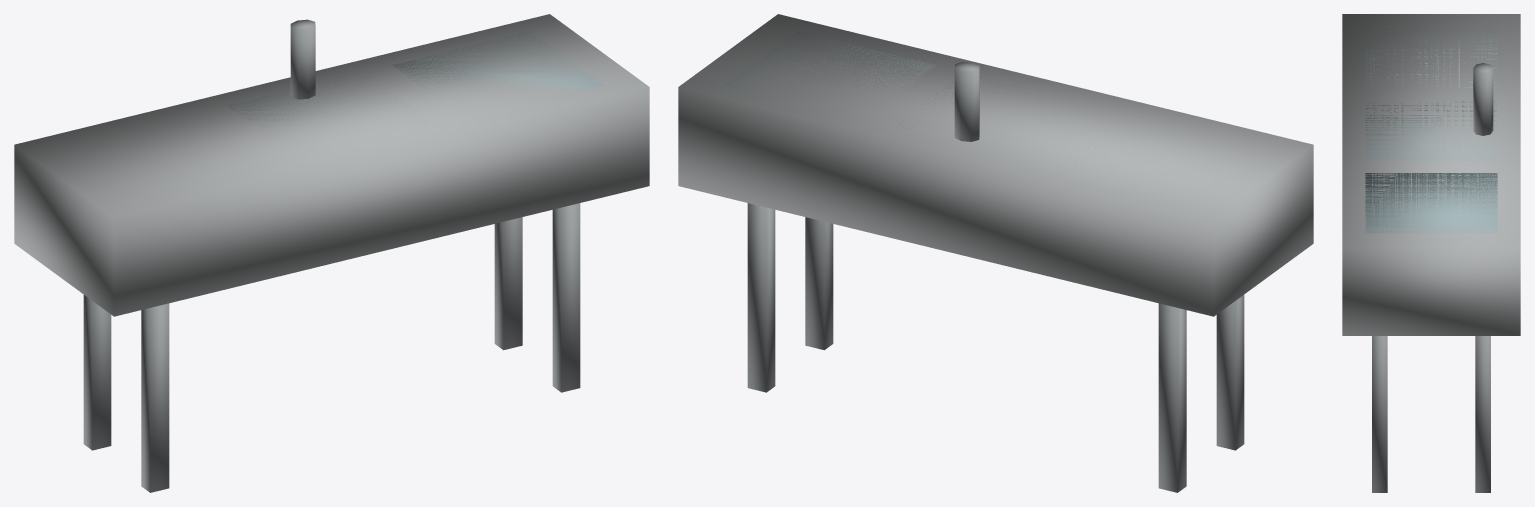
File: three_bay_sink__wide.glb
3 renders of one model, left to right at view 1: azimuth 30°, elevation 25°; view 2: azimuth 150°, elevation 25°; view 3: azimuth 270°, elevation 25°, orthographic. The views are drawn at different scales.
Parts seen in each view (by area): view 1: world; view 2: world; view 3: world.
Boxes of the visible parts, x1=… form: world: x1=14, y1=14, x2=649, y2=492; world: x1=678, y1=14, x2=1313, y2=492; world: x1=1342, y1=14, x2=1520, y2=492.
Bounding box in the file's own units: 1.92 × 1.27 × 0.62.
